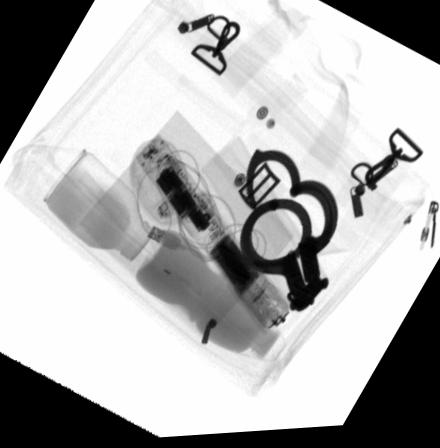Baton: (133, 134, 296, 336)
HandCuffs: (238, 150, 340, 318)
